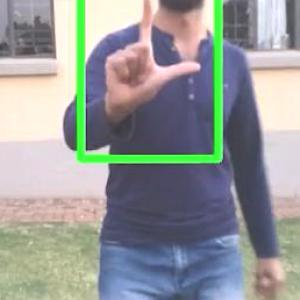land_hand: (92, 0, 209, 128)
